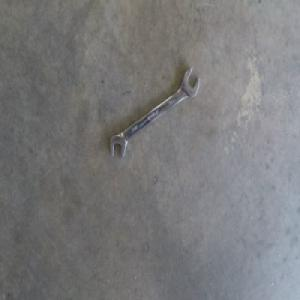Wrench: (109, 65, 199, 159)
